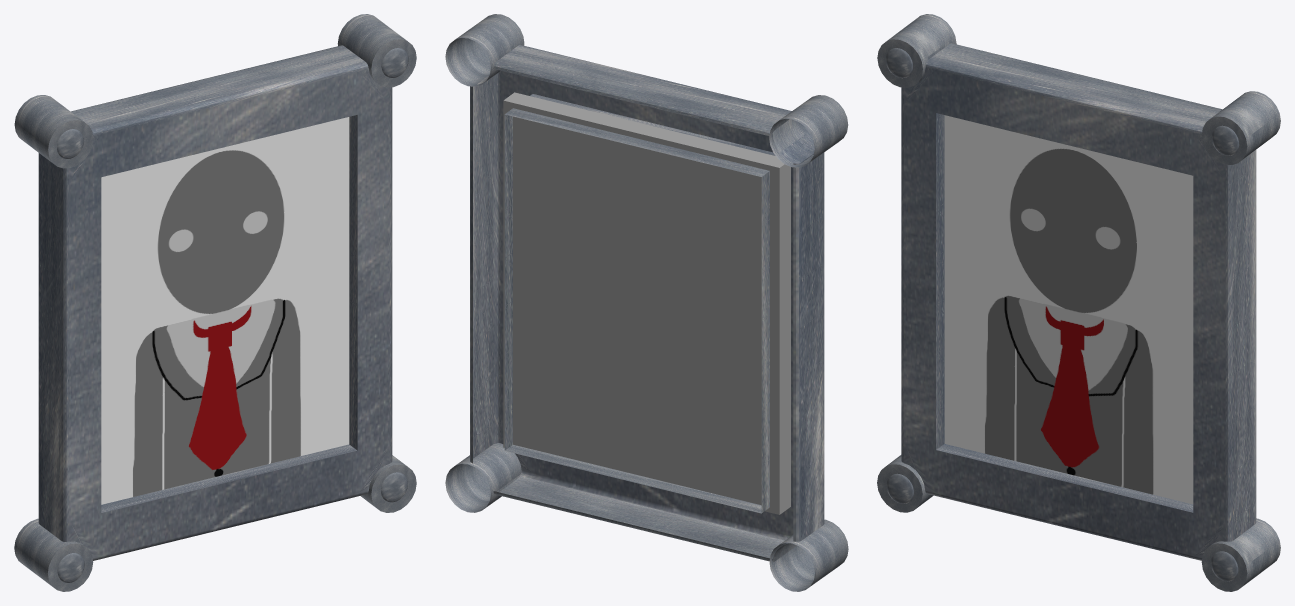
Rendered from Principal_Self_Portrait_Textured.fbx.
The picture shows the model from 3 angles, left to right: view 1: azimuth 30°, elevation 25°; view 2: azimuth 150°, elevation 25°; view 3: azimuth 330°, elevation 25°; orthographic projection.
Parts seen in each view (by area): view 1: pCube2, pCube1, pCylinder2, pCylinder4, pCylinder1, pCylinder3, pSphere4, pSphere3, pSphere2, pSphere1; view 2: pCube2, pCube1, pCylinder1, pCylinder4, pCylinder3, pCylinder2; view 3: pCube2, pCube1, pCylinder1, pCylinder3, pCylinder2, pCylinder4, pSphere3, pSphere1, pSphere4, pSphere2.
Part boxes in pixels (left/top/right/bottom): pCube2: left=101, top=117, right=349, bottom=504; pCube1: left=38, top=45, right=392, bottom=560; pCylinder2: left=14, top=95, right=93, bottom=168; pCylinder4: left=14, top=518, right=93, bottom=591; pCylinder1: left=337, top=14, right=416, bottom=87; pCylinder3: left=360, top=455, right=416, bottom=512; pSphere4: left=57, top=553, right=84, bottom=582; pSphere3: left=381, top=472, right=407, bottom=502; pSphere2: left=381, top=48, right=408, bottom=77; pSphere1: left=57, top=129, right=83, bottom=158; pCube2: left=503, top=92, right=790, bottom=514; pCube1: left=470, top=45, right=824, bottom=561; pCylinder1: left=445, top=14, right=524, bottom=86; pCylinder4: left=769, top=519, right=848, bottom=591; pCylinder3: left=445, top=443, right=521, bottom=512; pCylinder2: left=769, top=95, right=848, bottom=167; pCube2: left=944, top=115, right=1193, bottom=504; pCube1: left=901, top=43, right=1256, bottom=560; pCylinder1: left=1201, top=91, right=1280, bottom=164; pCylinder3: left=1201, top=518, right=1280, bottom=591; pCylinder2: left=877, top=14, right=956, bottom=87; pCylinder4: left=877, top=455, right=933, bottom=512; pSphere3: left=1211, top=551, right=1238, bottom=581; pSphere1: left=885, top=48, right=912, bottom=78; pSphere4: left=886, top=473, right=913, bottom=503; pSphere2: left=1212, top=125, right=1239, bottom=155.
Bounding box in the file's own units: 0.8183 × 1 × 0.1363.
Materials: 3 (2 with a texture image).
